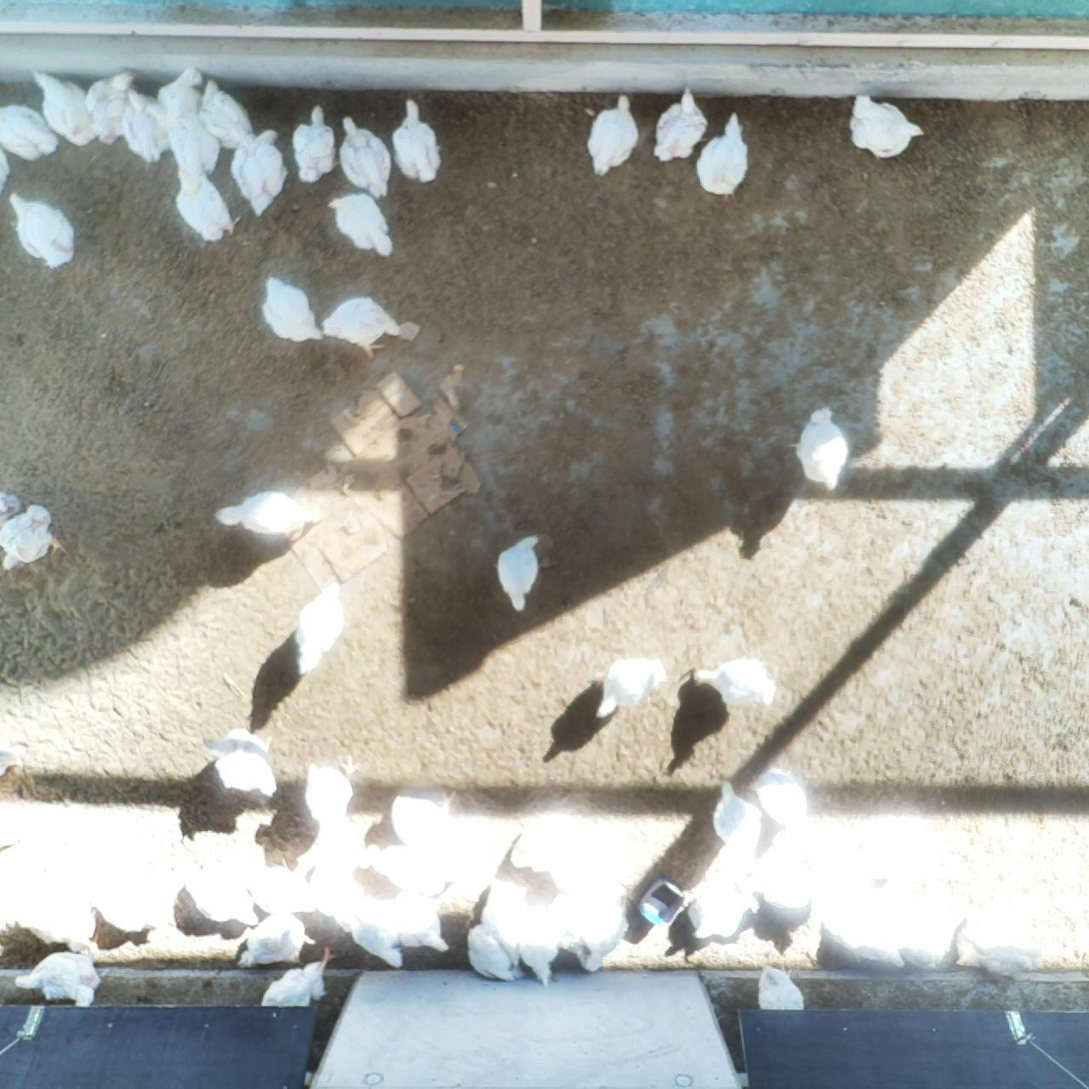chicken: (813, 893, 908, 970), (557, 877, 630, 972), (882, 893, 964, 970), (261, 945, 337, 1024), (786, 406, 854, 492), (9, 948, 100, 1012), (228, 125, 289, 220), (288, 579, 347, 677), (31, 68, 103, 147), (687, 862, 759, 941), (848, 90, 926, 162), (509, 811, 596, 875), (213, 488, 312, 544), (13, 881, 97, 947), (957, 915, 1045, 978), (10, 189, 77, 271), (695, 112, 754, 203), (180, 862, 260, 929), (321, 295, 402, 361), (235, 908, 315, 972), (593, 656, 666, 726), (172, 167, 238, 244), (89, 864, 160, 935), (389, 784, 459, 855), (342, 894, 407, 970), (0, 503, 66, 577), (652, 84, 710, 167), (325, 192, 394, 259), (259, 274, 325, 344), (244, 857, 321, 917), (338, 113, 392, 198), (391, 95, 442, 184), (305, 753, 359, 834), (120, 85, 176, 163), (690, 657, 779, 706), (86, 68, 141, 147), (588, 95, 639, 180), (710, 778, 762, 861), (515, 901, 564, 988), (200, 77, 257, 151), (289, 103, 341, 184), (390, 887, 450, 955), (754, 843, 813, 912), (495, 533, 544, 615), (748, 768, 812, 830), (163, 108, 223, 174), (479, 882, 525, 967), (0, 99, 58, 165), (466, 922, 527, 982), (756, 962, 807, 1033), (207, 749, 279, 799), (158, 64, 206, 136), (200, 727, 274, 772), (0, 813, 22, 858), (0, 484, 20, 527), (0, 135, 10, 194)
